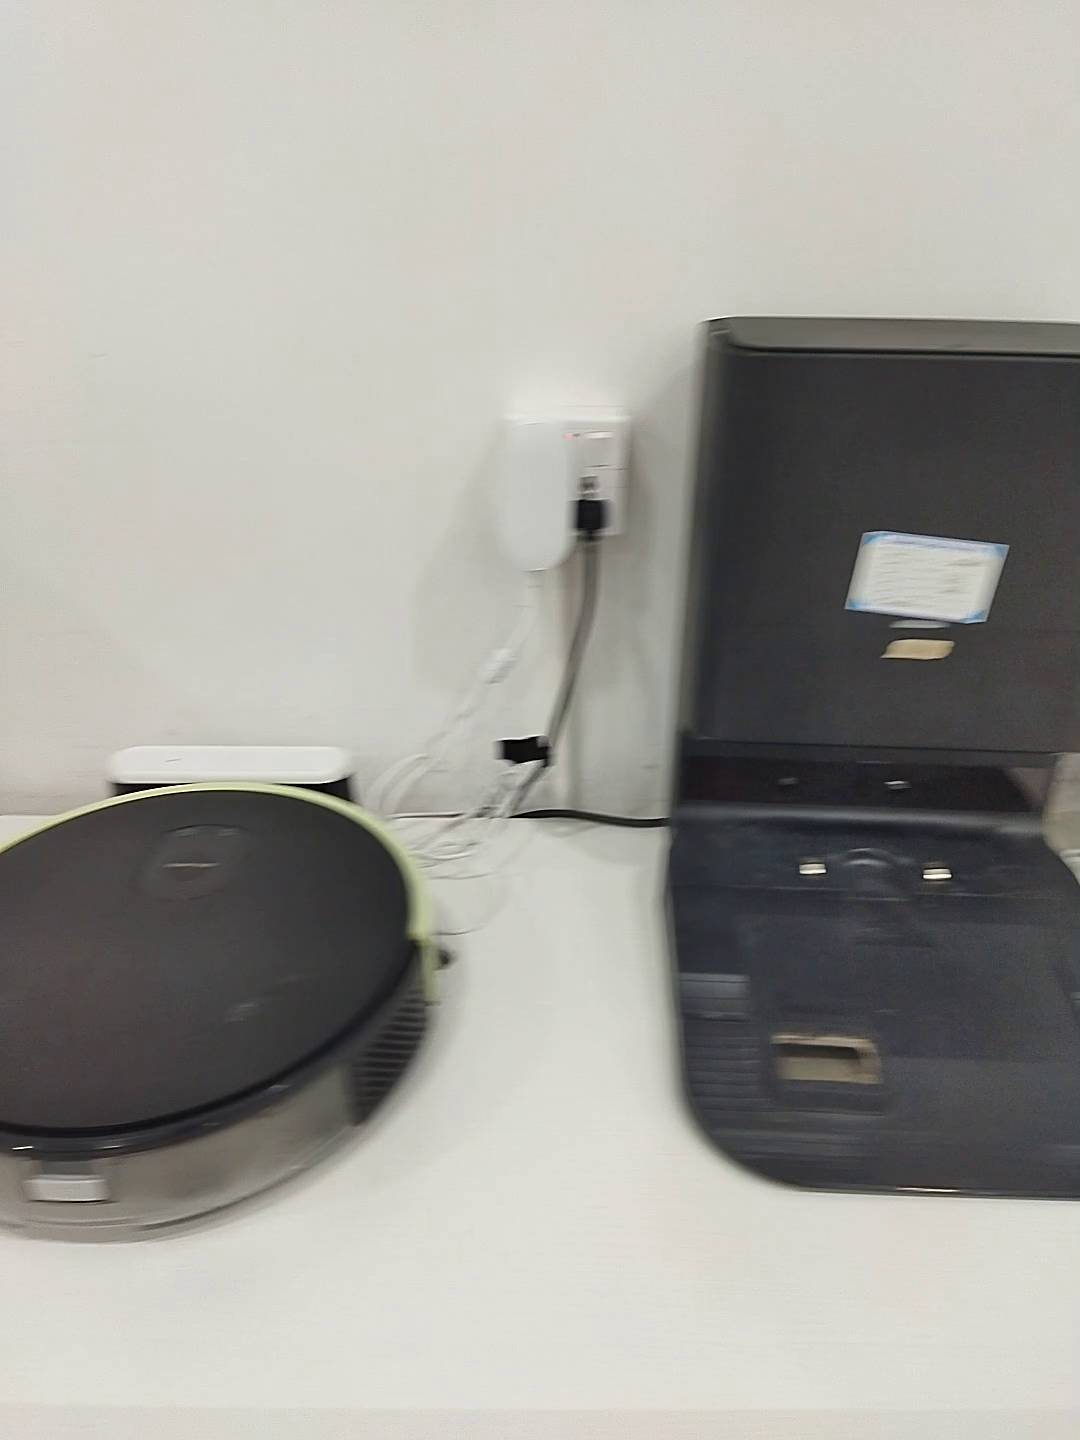dust collecting barrel: (659, 317, 1080, 1205)
